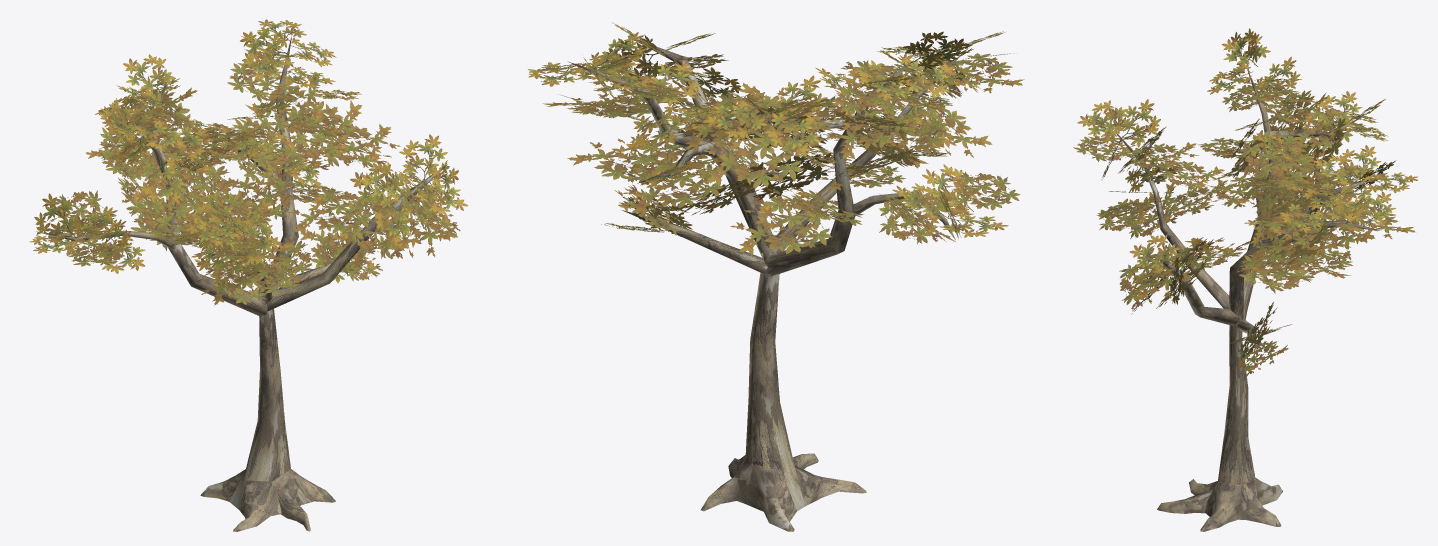
File: 秋天树.glb
3 renders of one model, left to right at view 1: azimuth 30°, elevation 25°; view 2: azimuth 150°, elevation 25°; view 3: azimuth 270°, elevation 25°, orthographic. The views are drawn at different scales.
Visible parts, largest first — view 1: 秋天树2; view 2: 秋天树2; view 3: 秋天树2.
Part boxes in pixels (<box>): 秋天树2: <box>30,19,467,531</box>; 秋天树2: <box>528,22,1024,531</box>; 秋天树2: <box>1073,28,1417,531</box>.
Bounding box in the file's own units: 5.01 × 5.47 × 4.25.
1 material, 1 textured.
